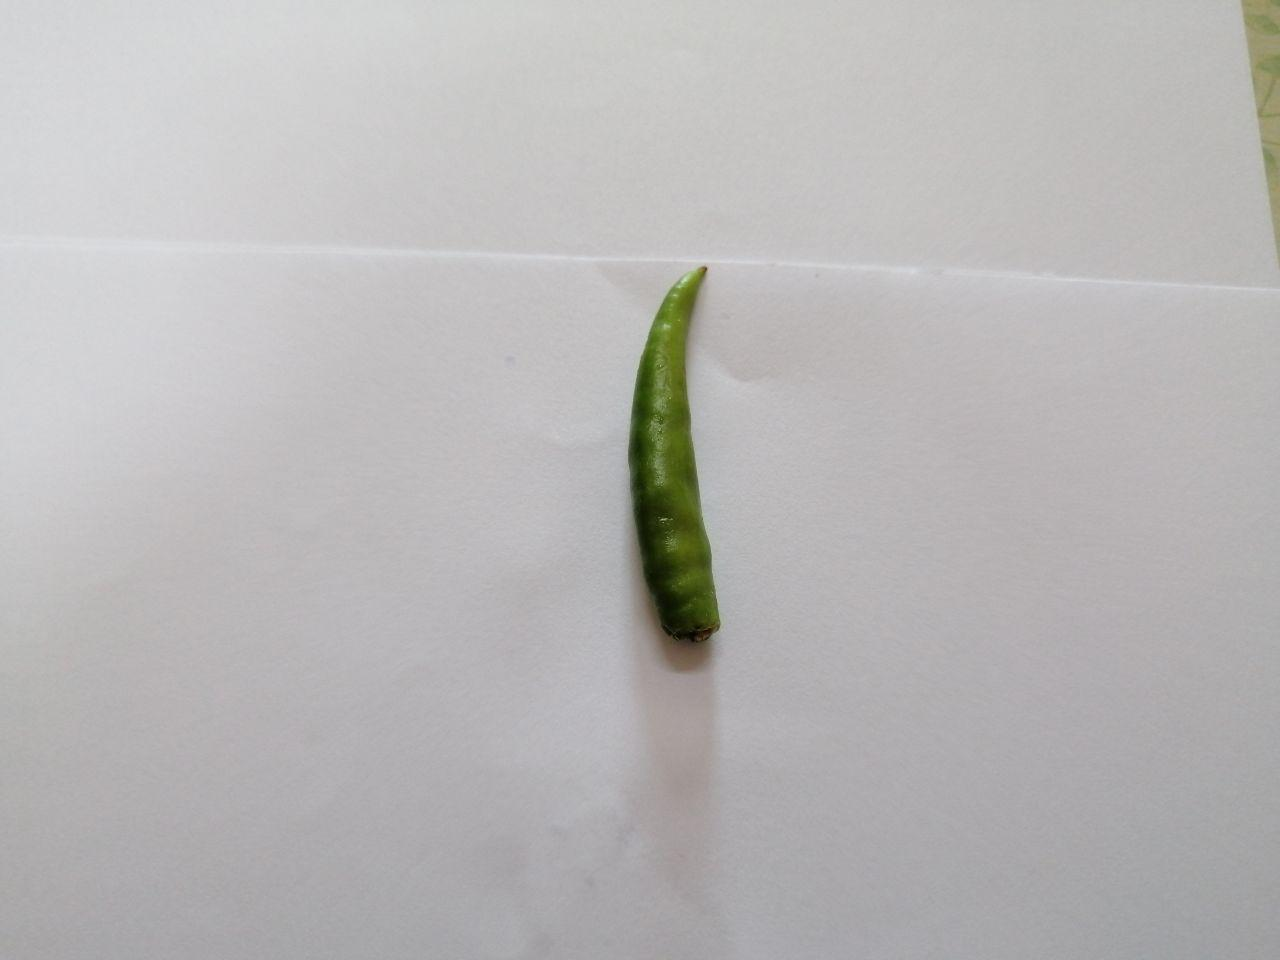lada hijau: (608, 244, 756, 664)
